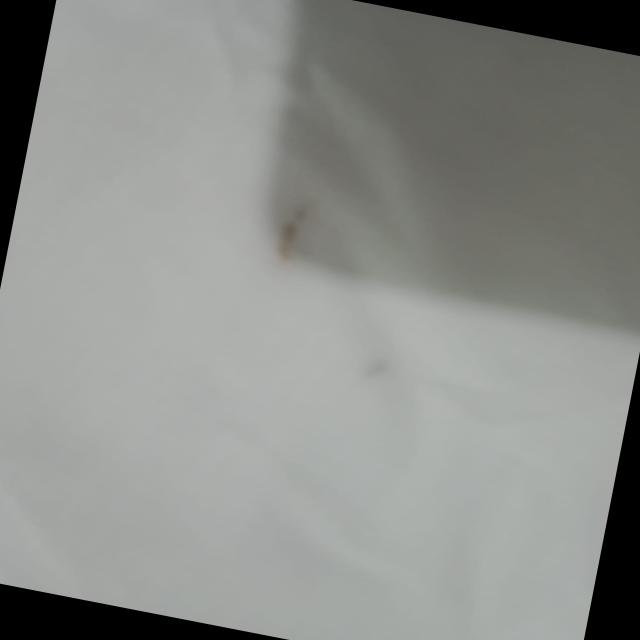stain: (240, 182, 340, 280)
